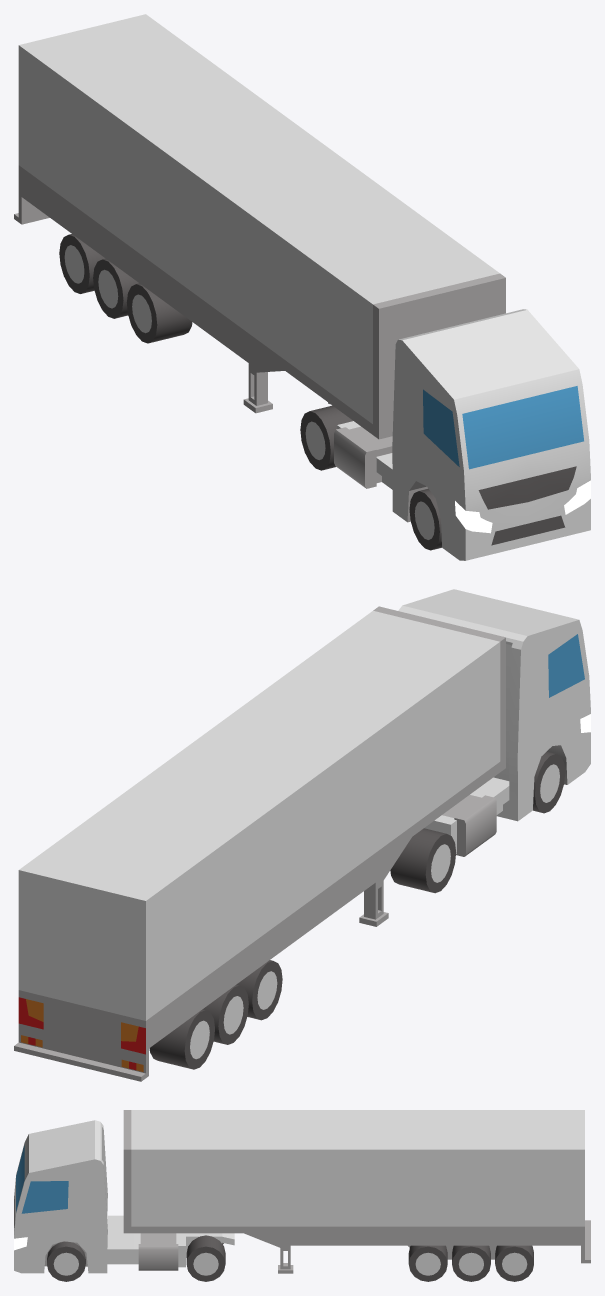
The model's file is low_poly_truck.glb.
The picture shows the model from 3 angles, top to bottom: view 1: azimuth 30°, elevation 25°; view 2: azimuth 150°, elevation 25°; view 3: azimuth 270°, elevation 25°; orthographic projection. The views are drawn at different scales.
Parts seen in each view (by area): view 1: Trailer, Truck; view 2: Trailer, Truck; view 3: Trailer, Truck.
Part boxes in pixels (x1,y1,x2,y2): Trailer: (14, 14, 505, 439); Truck: (300, 309, 590, 560); Trailer: (14, 606, 505, 1081); Truck: (390, 589, 590, 893); Trailer: (123, 1110, 590, 1281); Truck: (14, 1120, 234, 1281).
Bounding box in the file's own units: 10.68 × 15.9 × 62.78.
